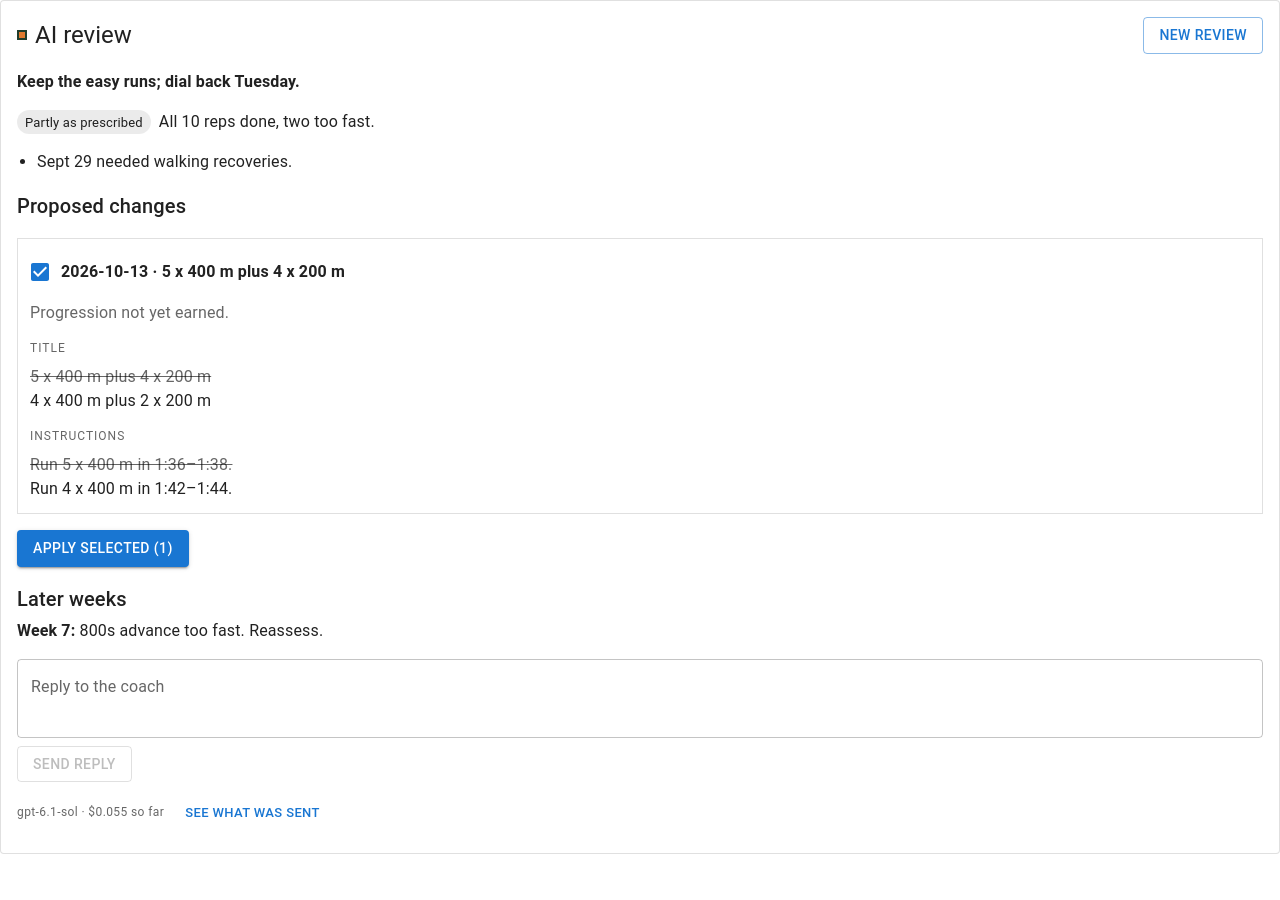
Scenario: sends a reply and shows the conversation
Replace the text in the text box labelled "Reply to the coach" with "Calf is fine." at (640, 698), box x1=31 y1=675 x2=1249 y2=721
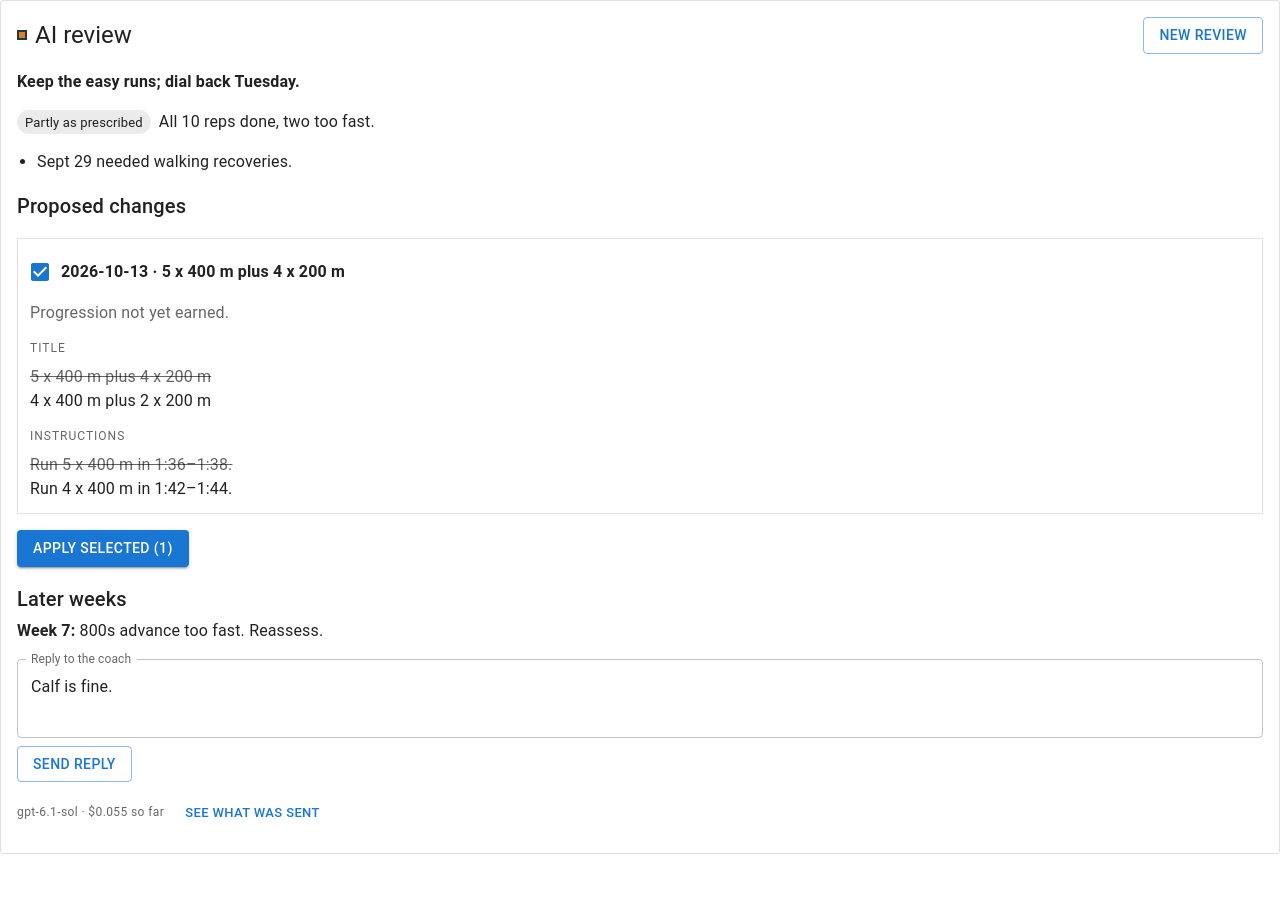
Click the button "Send reply" at (74, 764), box x1=17 y1=746 x2=132 y2=782
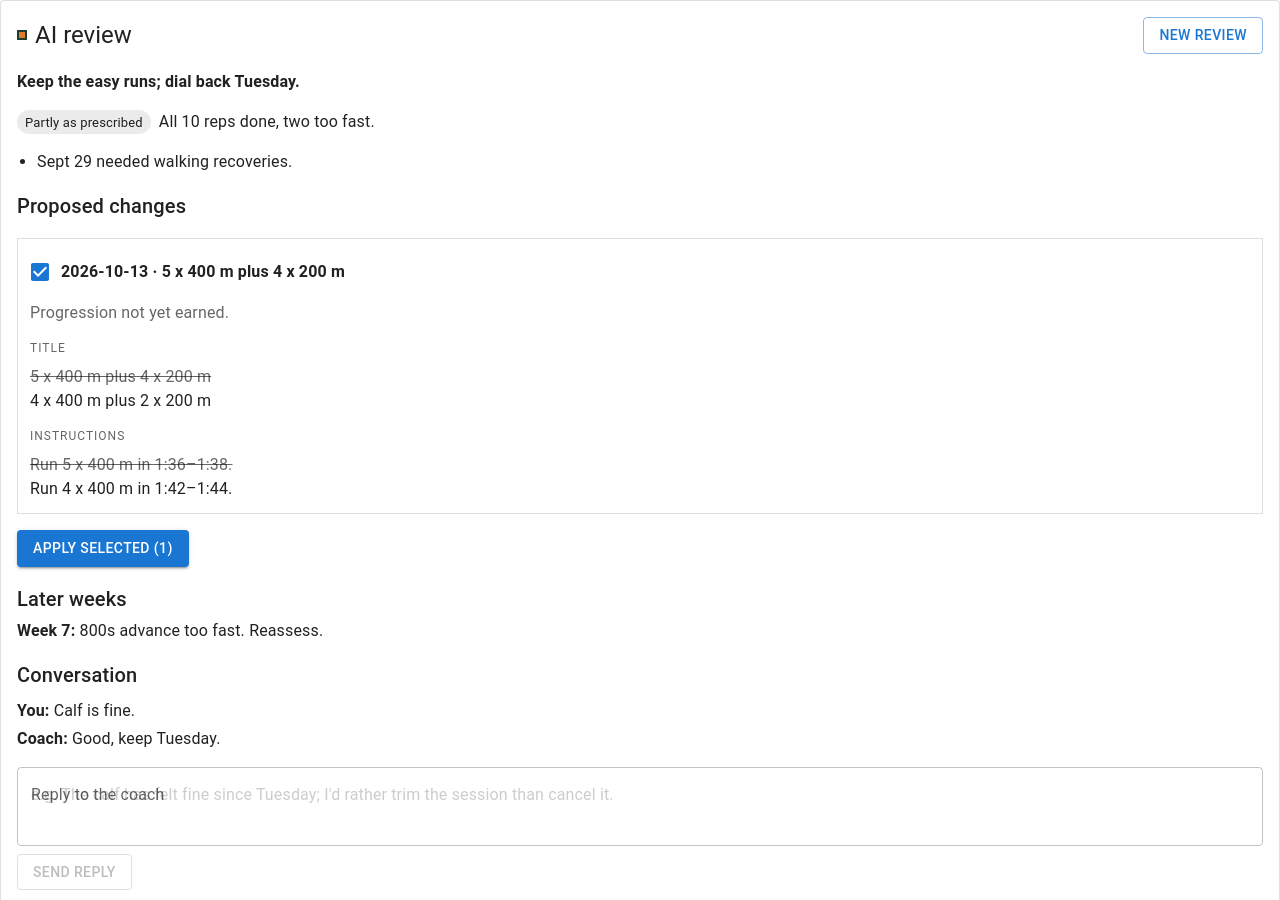
expect the text "Good, keep Tuesday." is shown: met, box x1=72 y1=729 x2=221 y2=748
